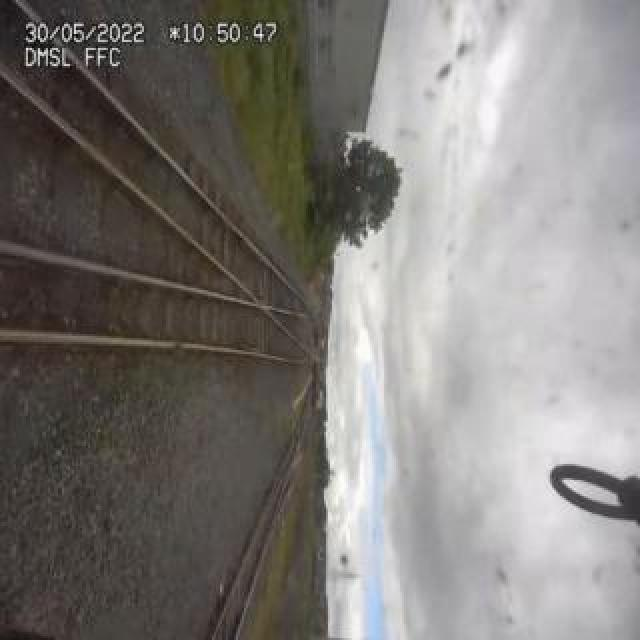rusted-track: (0, 318, 158, 366)
